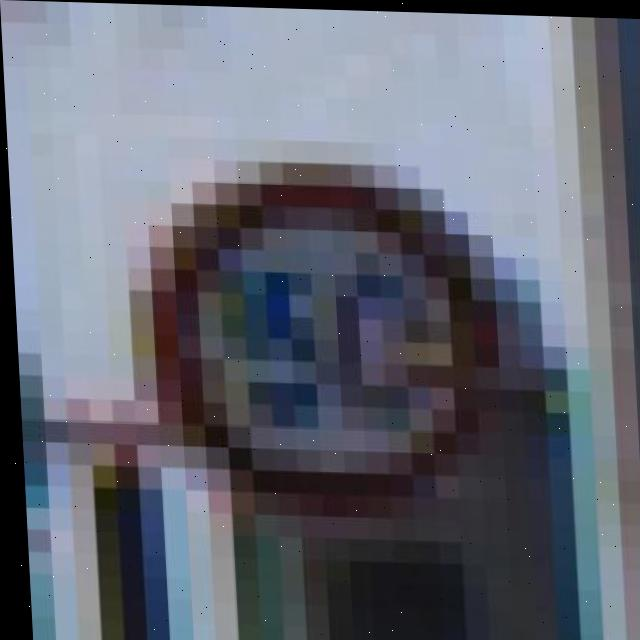Speed limit 50: (92, 147, 573, 640)
